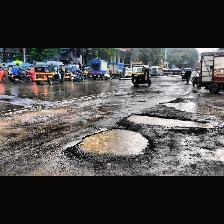pothole: (74, 127, 152, 157), (126, 113, 208, 128), (158, 102, 224, 116)
